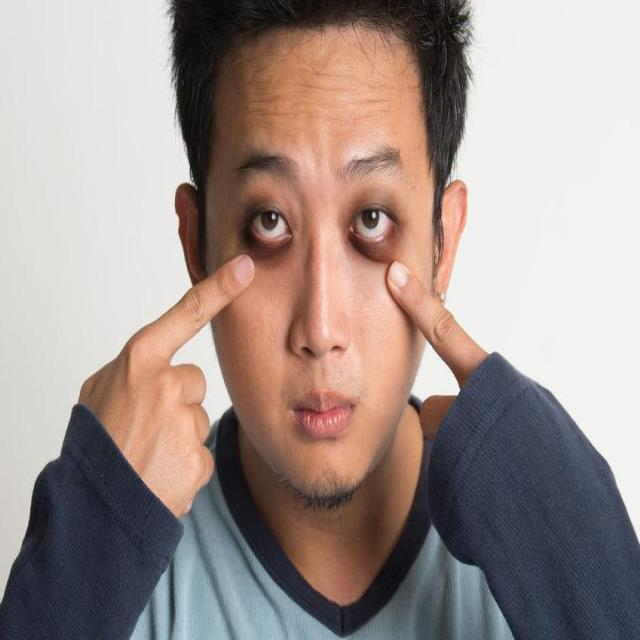Eyebags: (338, 187, 410, 265), (238, 198, 296, 273)
